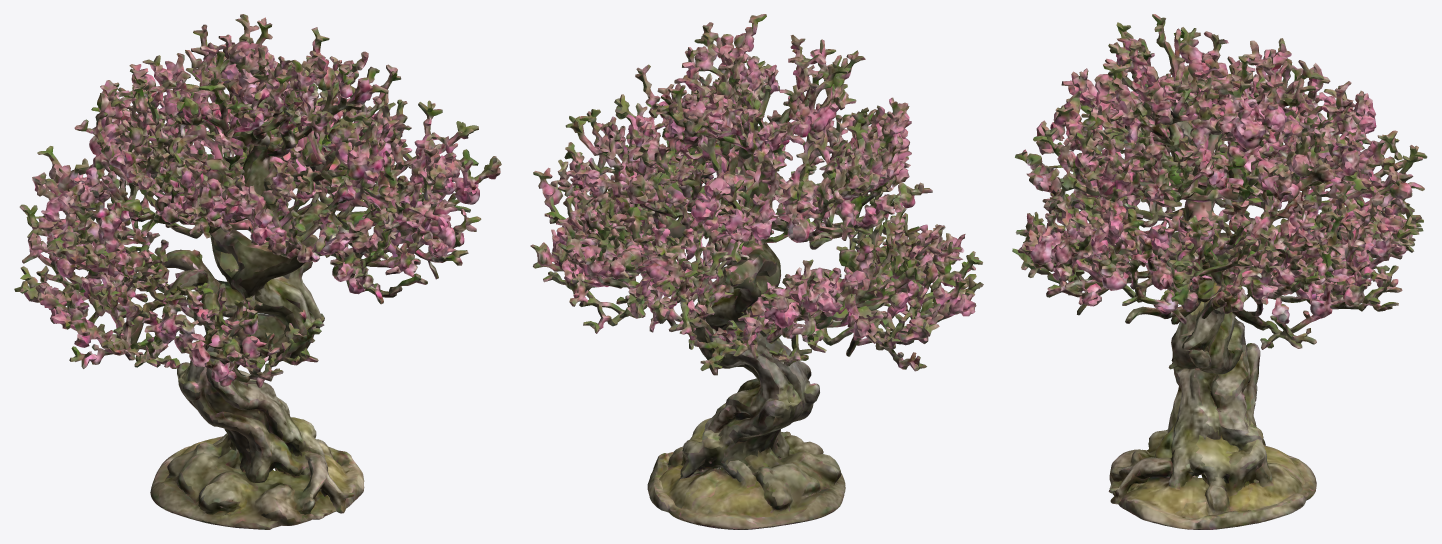
Rendered from peach-tree-single.glb.
3 renders of one model, left to right at view 1: azimuth 30°, elevation 25°; view 2: azimuth 150°, elevation 25°; view 3: azimuth 270°, elevation 25°, orthographic. The views are drawn at different scales.
Parts seen in each view (by area): view 1: geometry_0; view 2: geometry_0; view 3: geometry_0.
Part boxes in pixels (<box>): geometry_0: <box>14,14,501,529</box>; geometry_0: <box>530,14,983,529</box>; geometry_0: <box>1012,14,1427,529</box>.
Size of the model in its own units: 0.7474 by 0.75 by 0.6427.
Materials: 1 (1 with a texture image).
